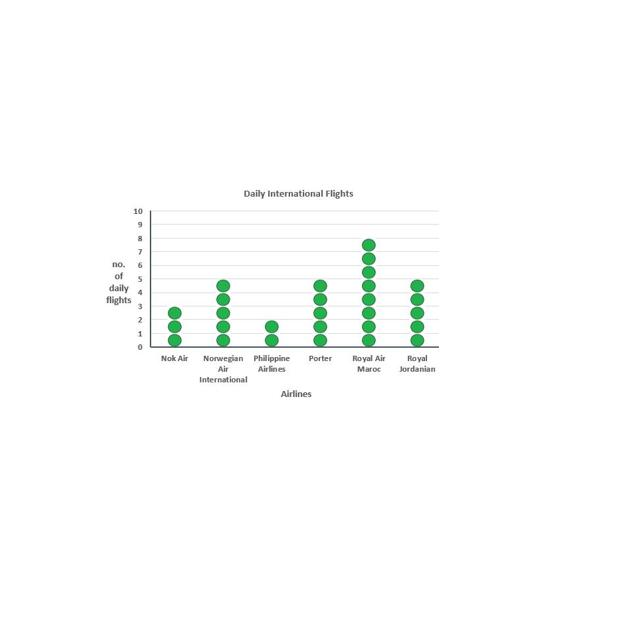Graph: (104, 184, 439, 401)
